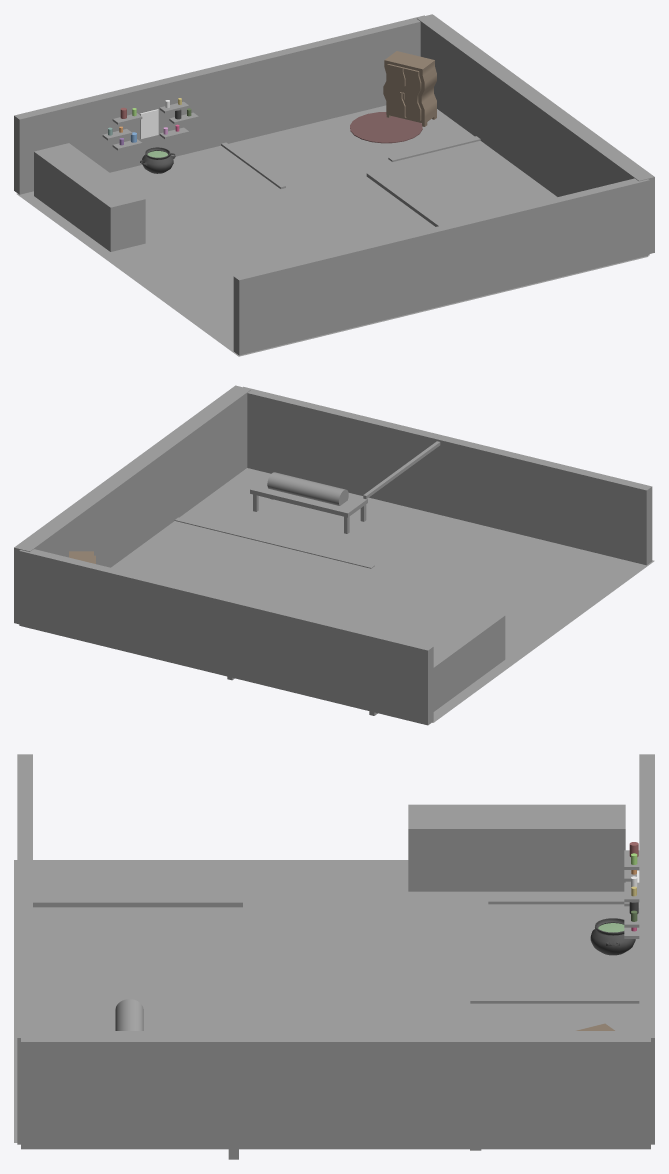
Rendered from BlockedRoom.fbx.
3 views of the same model, one above another, from view 1: azimuth 30°, elevation 25°; view 2: azimuth 150°, elevation 25°; view 3: azimuth 270°, elevation 25° (orthographic). The views are drawn at different scales.
Visible parts, largest first — view 1: pPlane1, pCube27, pCube1, pCube3, stairs, pCube16, rug, Cauldron:polySurface1, pCube23, curtain_rod, mirror; view 2: pPlane1, pCube1, pCube27, pCube3, stairs, man, pCube4, pCube25, curtain_rod; view 3: pPlane1, pCube3, stairs, pCube1, pCube27, curtain_rod, pCube21, Cauldron:polySurface1, pCube22, man, pCube4.
Boxes of the visible parts, x1=… form: pPlane1: x1=16, y1=105, x2=648, y2=356; pCube27: x1=233, y1=178, x2=649, y2=355; pCube1: x1=14, y1=15, x2=424, y2=194; pCube3: x1=416, y1=14, x2=654, y2=253; stairs: x1=34, y1=143, x2=145, y2=251; pCube16: x1=383, y1=51, x2=436, y2=123; rug: x1=350, y1=112, x2=422, y2=143; Cauldron:polySurface1: x1=140, y1=147, x2=175, y2=173; pCube23: x1=388, y1=136, x2=480, y2=161; curtain_rod: x1=366, y1=172, x2=441, y2=226; mirror: x1=140, y1=109, x2=158, y2=138; pPlane1: x1=111, y1=468, x2=654, y2=722; pCube1: x1=19, y1=549, x2=433, y2=725; pCube27: x1=243, y1=386, x2=652, y2=565; pCube3: x1=14, y1=385, x2=251, y2=624; stairs: x1=421, y1=607, x2=505, y2=711; man: x1=267, y1=472, x2=348, y2=505; pCube4: x1=250, y1=475, x2=367, y2=517; pCube25: x1=174, y1=517, x2=374, y2=568; curtain_rod: x1=363, y1=441, x2=440, y2=499; pPlane1: x1=14, y1=860, x2=639, y2=1142; pCube3: x1=21, y1=1031, x2=650, y2=1149; stairs: x1=408, y1=804, x2=625, y2=891; pCube1: x1=639, y1=754, x2=654, y2=1144; pCube27: x1=17, y1=754, x2=32, y2=1144; curtain_rod: x1=33, y1=900, x2=242, y2=907; pCube21: x1=470, y1=997, x2=639, y2=1003; Cauldron:polySurface1: x1=590, y1=918, x2=635, y2=955; pCube22: x1=488, y1=898, x2=624, y2=904; man: x1=115, y1=999, x2=143, y2=1030; pCube4: x1=99, y1=1008, x2=155, y2=1030.
Size of the model in its own units: 64.57 by 12.41 by 60.46.
